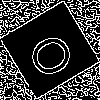O: (25, 25, 85, 82)
